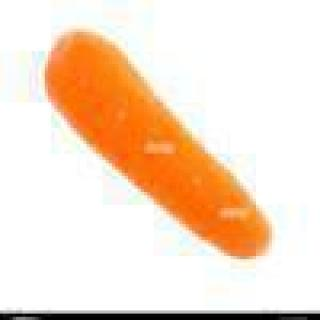Wortel: (27, 23, 286, 273)
